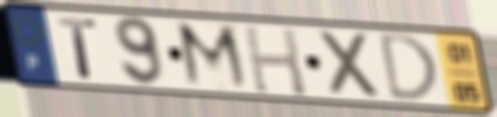9: (112, 14, 168, 91)
D: (377, 31, 442, 104)
H: (240, 22, 310, 99)
M: (172, 19, 255, 94)
T: (55, 15, 101, 82)
X: (315, 28, 386, 102)
